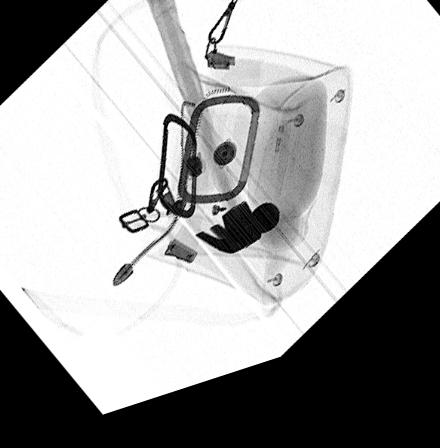Hammer: (141, 0, 279, 271)
